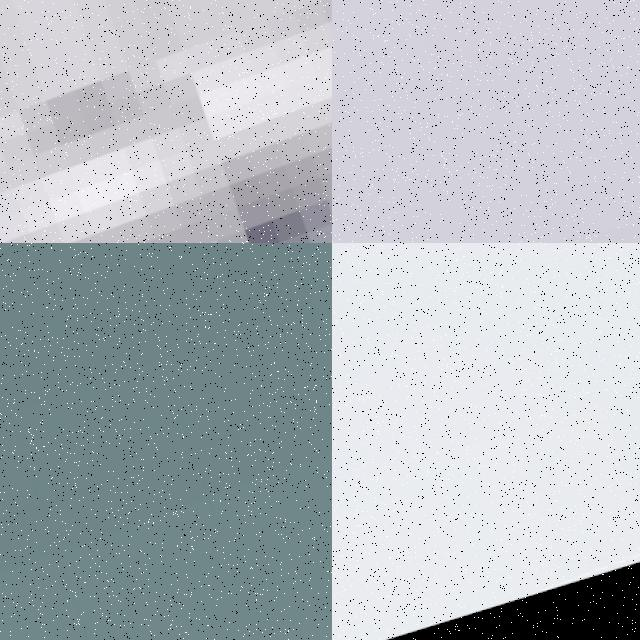drone: (0, 243, 332, 640), (332, 243, 640, 640), (0, 0, 332, 243)
